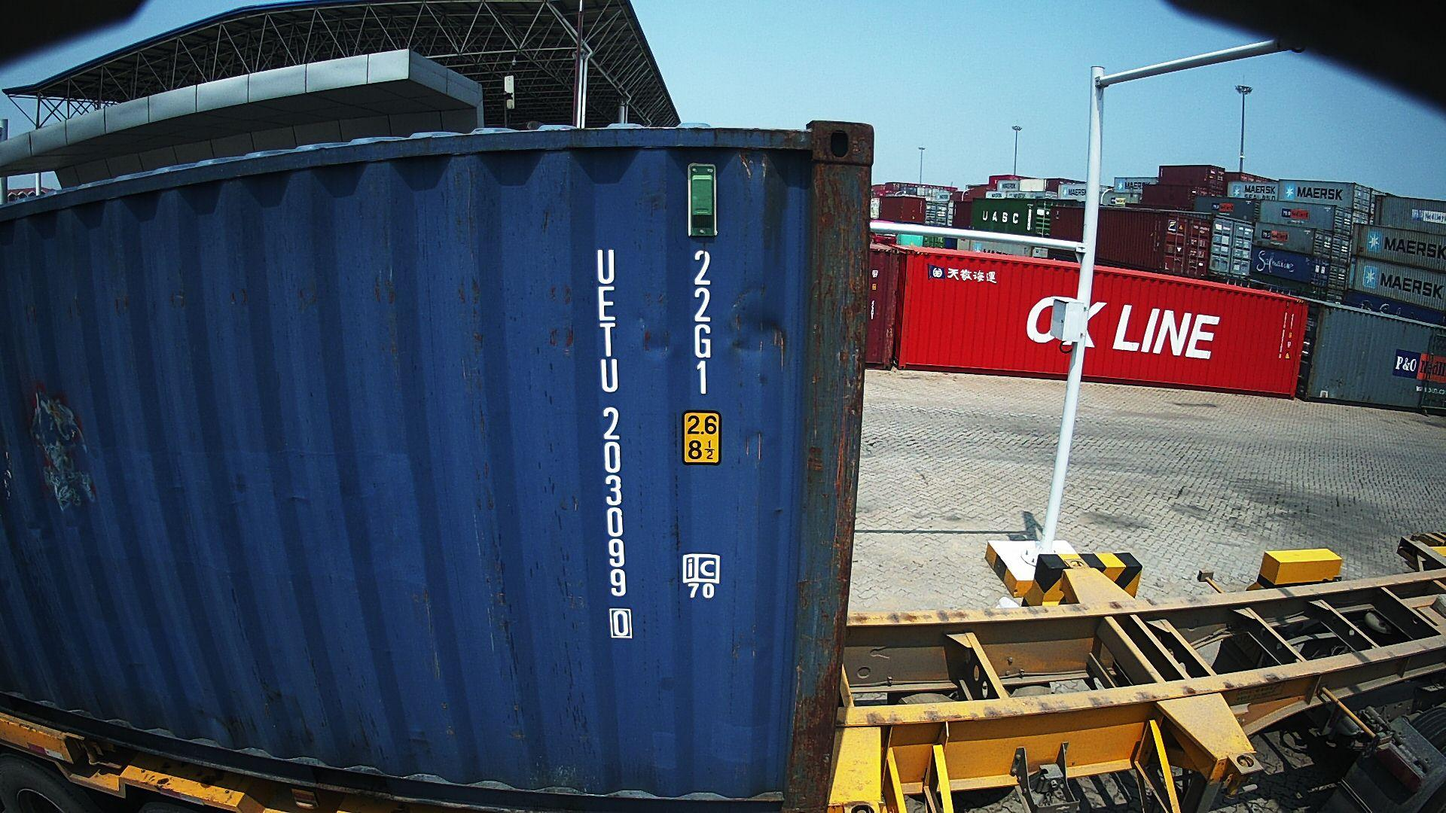container-numbers: (591, 239, 633, 644), (688, 246, 718, 398)
